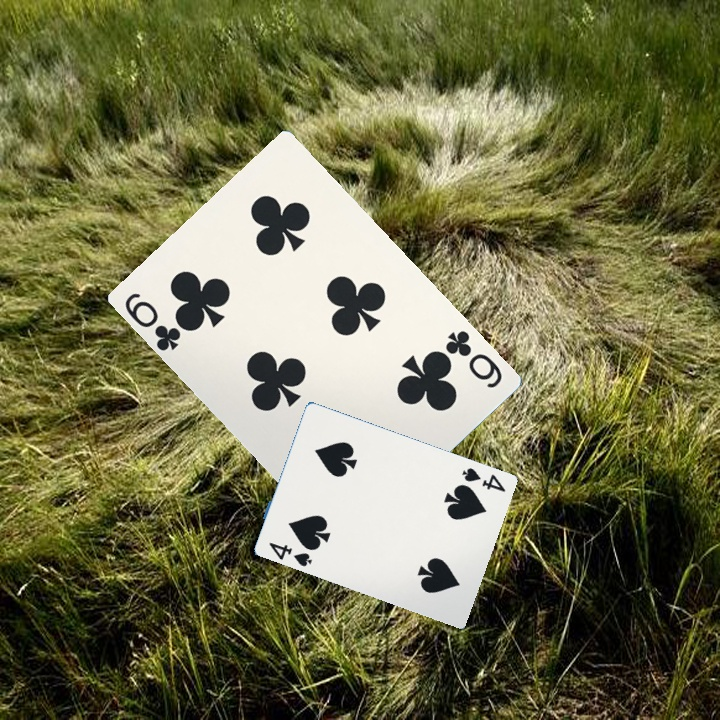JS.png: (120, 288, 184, 354), (441, 326, 505, 391)
QS.png: (265, 538, 315, 569), (458, 464, 508, 494)
